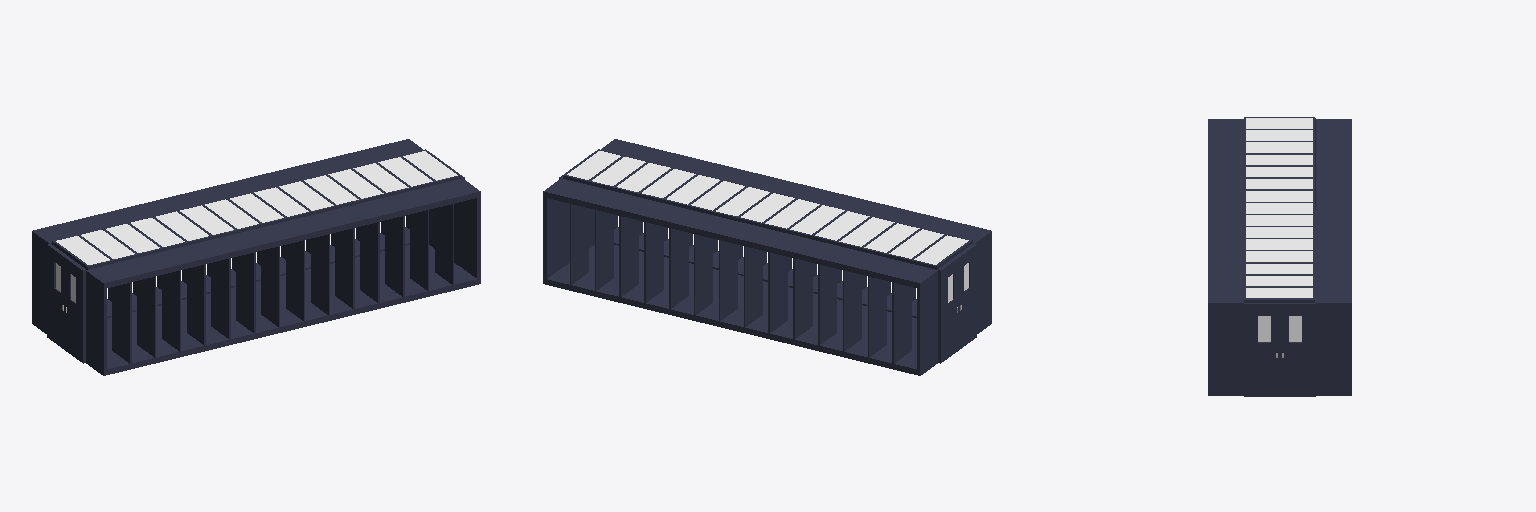
File: mdc.obj
3 views of the same model, side by side, from view 1: azimuth 30°, elevation 25°; view 2: azimuth 150°, elevation 25°; view 3: azimuth 270°, elevation 25° (orthographic).
Visible parts, largest first — view 1: 立方体.1, 立方体.2, 立方体_1, 立方体.3, 立方体.7_9, 立方体.7_11, 立方体.7_14, 立方体.7_6, 立方体.7_1, 立方体.7_12, 立方体.7_5, 立方体.7_7 (+8 smaller); view 2: 立方体.2, 立方体.1, 立方体_1, 立方体.3, 立方体.7_3, 立方体.7, 立方体.7_5, 立方体.7_1, 立方体.7_2, 立方体.7_6, 立方体.7_8, 立方体.7_10 (+8 smaller); view 3: 立方体.1, 立方体.2, 立方体, 立方体.7, 立方体.7_1, 立方体.7_2, 立方体.7_6, 立方体.7_7, 立方体.7_8, 立方体.7_9, 立方体.7_10, 立方体.7_11 (+7 smaller).
Boxes of the visible parts, <box> form: 立方体.1: <box>86,178,480,375</box>; 立方体.2: <box>32,139,422,333</box>; 立方体_1: <box>47,244,85,363</box>; 立方体.3: <box>107,245,457,351</box>; 立方体.7_9: <box>279,181,333,210</box>; 立方体.7_11: <box>328,169,383,198</box>; 立方体.7_14: <box>403,151,457,180</box>; 立方体.7_6: <box>205,199,258,228</box>; 立方体.7_1: <box>81,230,134,258</box>; 立方体.7_12: <box>353,163,408,192</box>; 立方体.7_5: <box>180,205,233,234</box>; 立方体.7_7: <box>230,193,283,222</box>; 立方体.2: <box>543,178,937,375</box>; 立方体.1: <box>601,139,991,333</box>; 立方体_1: <box>938,244,976,363</box>; 立方体.3: <box>566,245,916,351</box>; 立方体.7_3: <box>839,217,894,246</box>; 立方体.7: <box>914,235,968,264</box>; 立方体.7_5: <box>790,205,844,234</box>; 立方体.7_1: <box>889,229,943,258</box>; 立方体.7_2: <box>864,223,919,252</box>; 立方体.7_6: <box>765,199,819,228</box>; 立方体.7_8: <box>716,187,769,215</box>; 立方体.7_10: <box>667,175,719,204</box>; 立方体.1: <box>1208,119,1243,395</box>; 立方体.2: <box>1316,119,1351,395</box>; 立方体: <box>1244,302,1315,396</box>; 立方体.7: <box>1246,118,1312,128</box>; 立方体.7_1: <box>1246,130,1312,140</box>; 立方体.7_2: <box>1246,142,1312,152</box>; 立方体.7_6: <box>1246,191,1312,201</box>; 立方体.7_7: <box>1246,203,1312,213</box>; 立方体.7_8: <box>1246,215,1312,225</box>; 立方体.7_9: <box>1246,227,1312,237</box>; 立方体.7_10: <box>1246,239,1312,249</box>; 立方体.7_11: <box>1246,251,1312,261</box>.
Size of the model in its own units: 988 by 236 by 321.